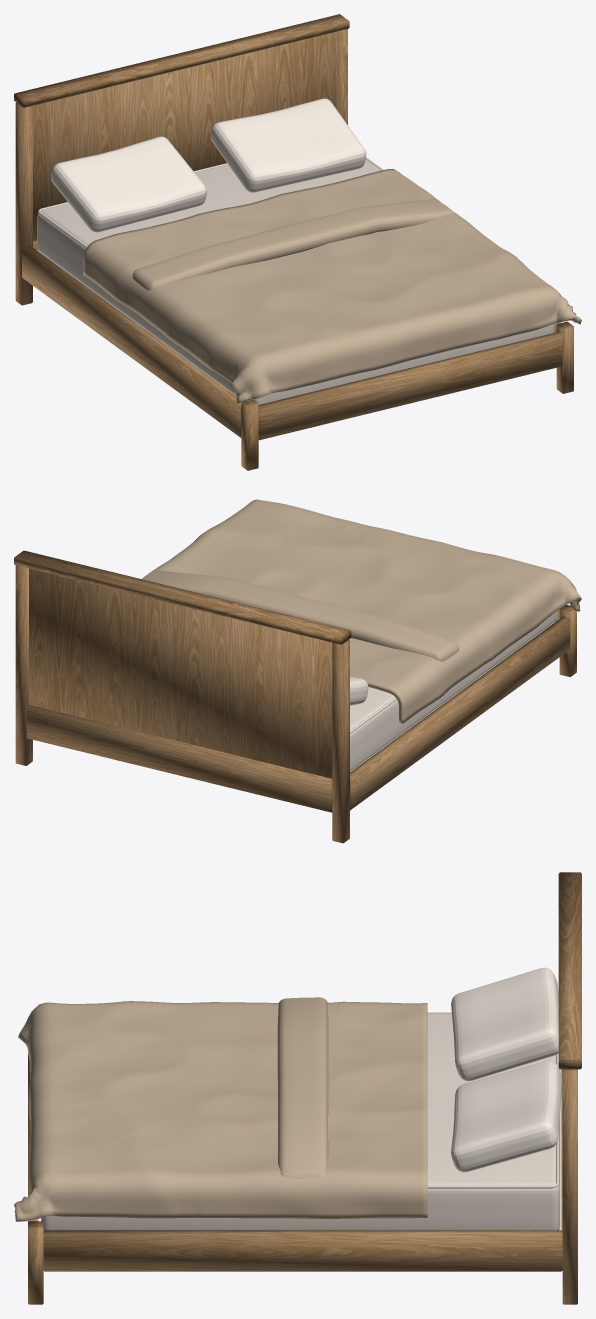
Rendered from oak-platform-bed.glb.
3 views of the same model, one above another, from view 1: azimuth 30°, elevation 25°; view 2: azimuth 150°, elevation 25°; view 3: azimuth 270°, elevation 25° (orthographic). The views are drawn at different scales.
Visible parts, largest first — view 1: duvet_sim, head_panel, rail_foot, mattress, pillow_R, pillow_L, rail_side_L, duvet_cuff, head_cap, post_head_L, post_foot_L, post_head_R (+1 smaller); view 2: head_panel, duvet_sim, rail_head, rail_side_L, duvet_cuff, head_cap, mattress, post_head_L, post_head_R, post_foot_L, pillow_L; view 3: duvet_sim, rail_side_R, mattress, pillow_L, pillow_R, duvet_cuff, head_cap, post_head_R, post_foot_R, piping_top.
Part boxes in pixels (x1,y1,x2,y2): duvet_sim: (83, 169, 581, 404); head_panel: (33, 32, 334, 241); rail_foot: (258, 332, 562, 440); mattress: (37, 159, 554, 404); pillow_R: (210, 98, 366, 192); pillow_L: (51, 136, 206, 232); rail_side_L: (22, 245, 241, 437); duvet_cuff: (132, 199, 454, 290); head_cap: (14, 14, 349, 107); post_head_L: (15, 102, 32, 305); post_foot_L: (241, 399, 258, 470); post_head_R: (334, 29, 347, 124); head_panel: (29, 568, 332, 778); duvet_sim: (152, 499, 581, 723); rail_head: (27, 705, 332, 812); rail_side_L: (350, 616, 570, 810); duvet_cuff: (142, 570, 459, 661); head_cap: (14, 550, 351, 644); mattress: (350, 611, 557, 771); post_head_L: (332, 639, 349, 843); post_head_R: (15, 565, 32, 765); post_foot_L: (559, 604, 576, 677); pillow_L: (350, 676, 368, 705); duvet_sim: (14, 1001, 427, 1221); rail_side_R: (43, 1230, 562, 1271); mattress: (41, 1013, 559, 1230); pillow_L: (451, 967, 558, 1081); pillow_R: (451, 1061, 562, 1172); duvet_cuff: (277, 997, 328, 1178); head_cap: (558, 872, 581, 1069); post_head_R: (562, 1069, 577, 1304); post_foot_R: (28, 1221, 43, 1304); piping_top: (427, 1012, 559, 1188).
Bounding box in the file's own units: 1.79 × 1.04 × 2.19.
Materials: 5 (5 with a texture image).
